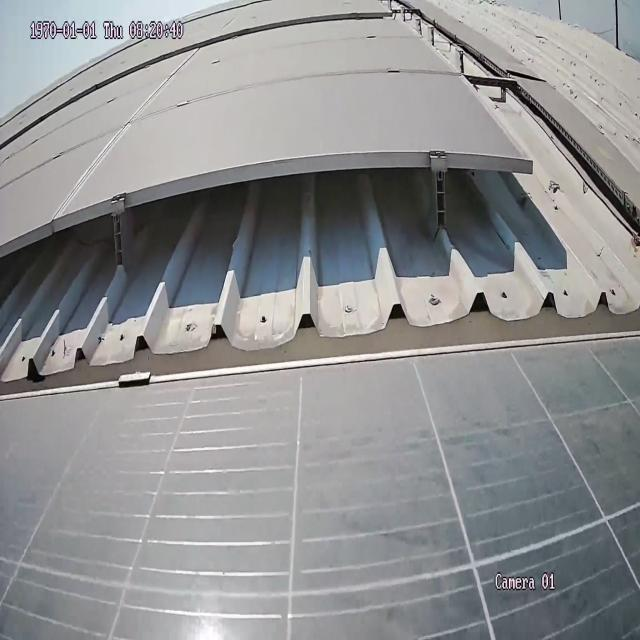interior panel: (54, 60, 192, 202)
outher panel: (0, 0, 640, 398)
